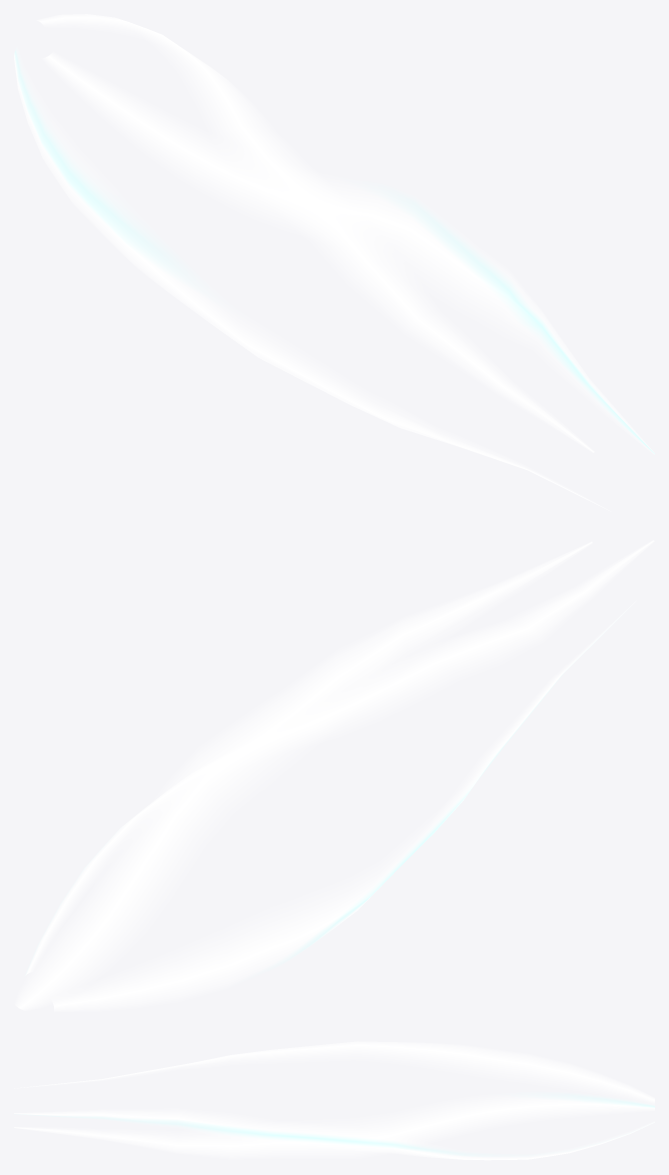
Rendered from magic_projectile.gltf.
The picture shows the model from 3 angles, top to bottom: view 1: azimuth 30°, elevation 25°; view 2: azimuth 150°, elevation 25°; view 3: azimuth 270°, elevation 25°; orthographic projection. The views are drawn at different scales.
Visible parts, largest first — view 1: Sphere; view 2: Sphere; view 3: Sphere.
Part boxes in pixels (x1,y1,x2,y2): Sphere: (14,14,654,511); Sphere: (15,540,654,1011); Sphere: (14,1041,654,1160).
Size of the model in its own units: 0.1508 by 0.1616 by 0.7958.
1 material, 1 textured.
